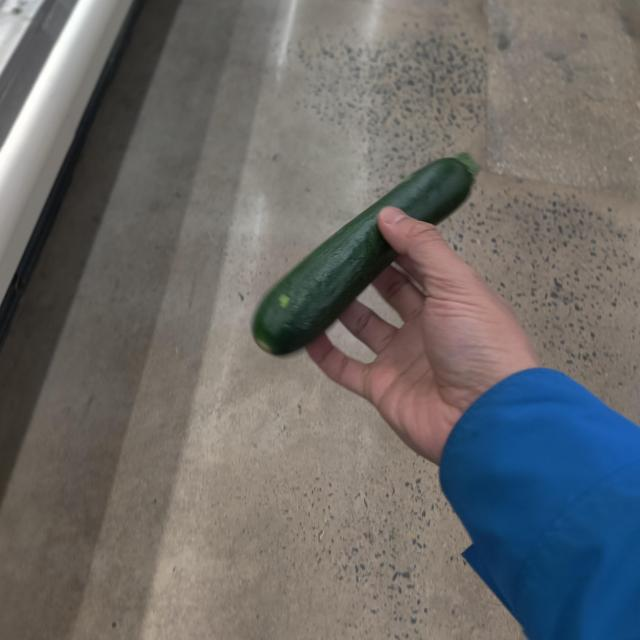Zucchini: (233, 141, 484, 350)
